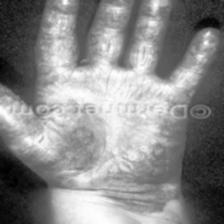Non-Cancerous Skin Condition: (43, 123, 154, 186), (44, 50, 158, 98)
